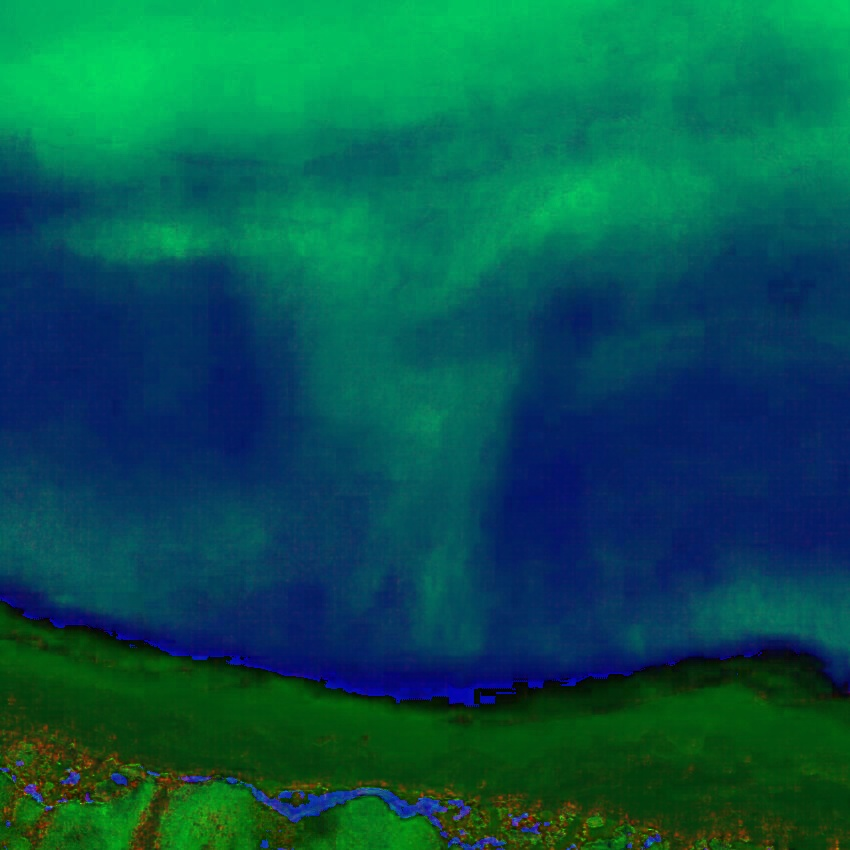rip_current: (258, 228, 571, 662)
